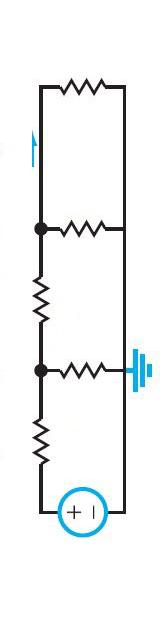resistor: (39, 65, 123, 104), (37, 210, 118, 246), (46, 345, 123, 381)
